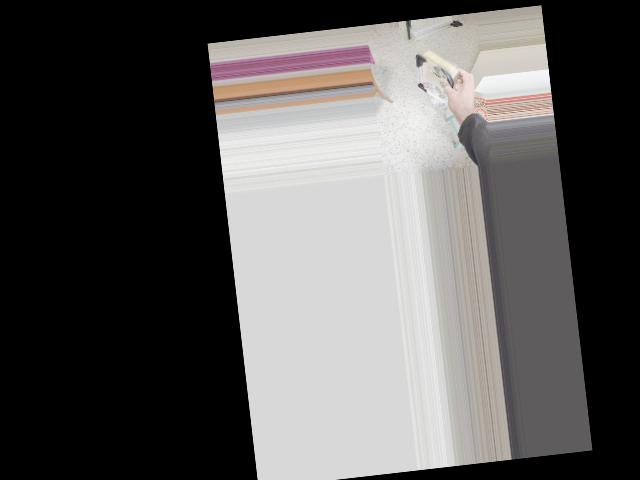cheese: (395, 32, 480, 105)
